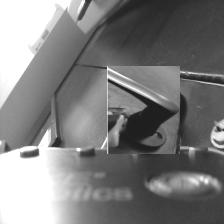Door Handle: (103, 70, 184, 151)
